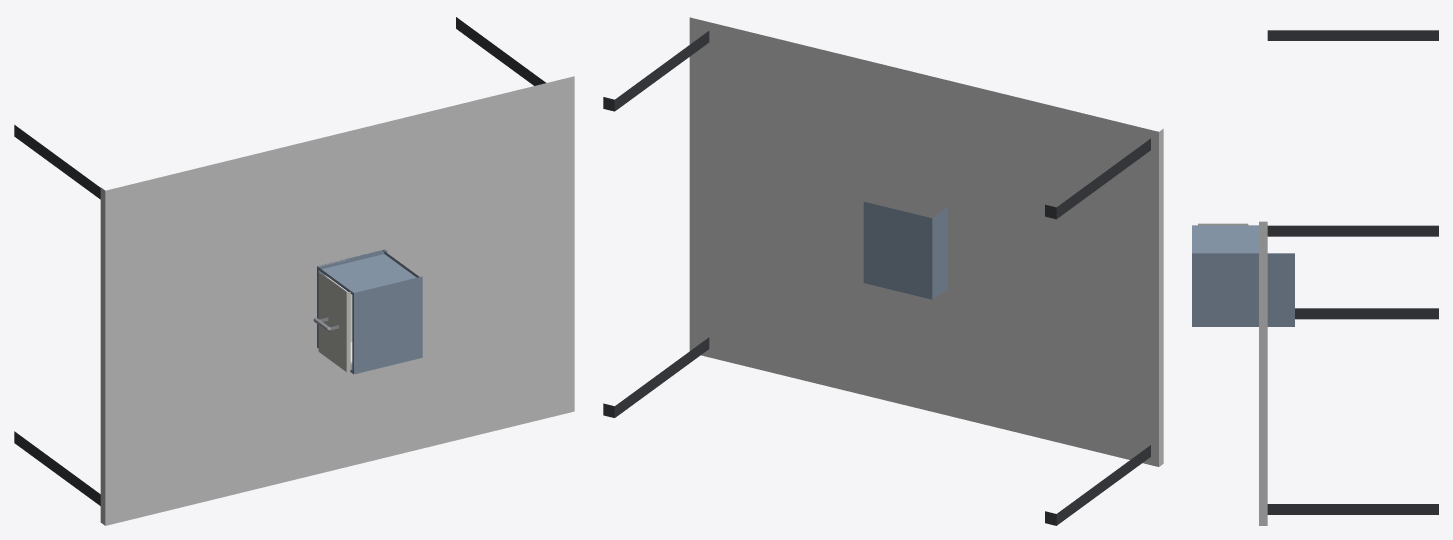
File: t2_bfc794e61b.glb
3 views of the same model, side by side, from view 1: azimuth 30°, elevation 25°; view 2: azimuth 150°, elevation 25°; view 3: azimuth 270°, elevation 25° (orthographic). The views are drawn at different scales.
Visible parts, largest first — view 1: s0, s1, s2; view 2: s0, s1; view 3: s0, s1.
Boxes of the visible parts, bbox=[...] form: s0: bbox=[14, 17, 574, 525]; s1: bbox=[317, 249, 422, 374]; s2: bbox=[313, 272, 352, 371]; s0: bbox=[603, 17, 1163, 525]; s1: bbox=[863, 201, 947, 299]; s0: bbox=[1259, 30, 1438, 525]; s1: bbox=[1192, 225, 1294, 326].
Size of the model in its own units: 2.05 by 1.4 by 1.03.
